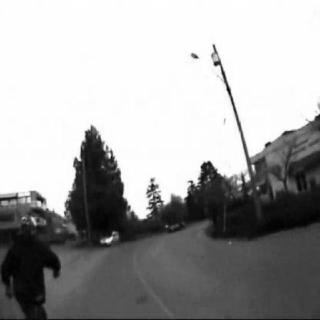other: (159, 217, 185, 231)
